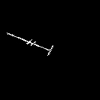treble_crochet: (10, 34, 52, 54)
